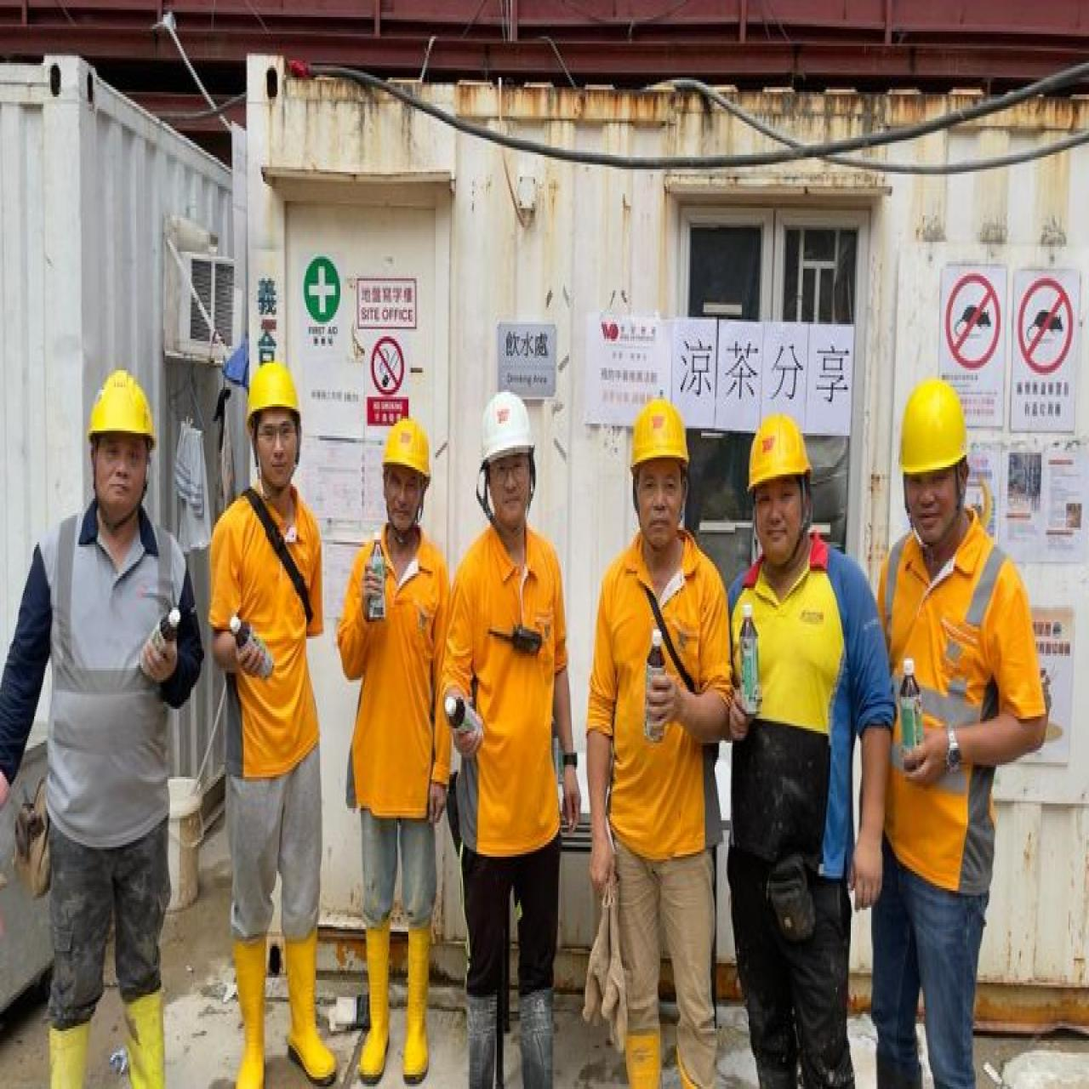NO_Safety_Vest: (878, 529, 1045, 925), (21, 508, 197, 862), (727, 547, 877, 889), (589, 529, 723, 861), (446, 525, 572, 873), (211, 492, 322, 775), (342, 531, 447, 823)
Person: (0, 349, 208, 1089), (872, 373, 1051, 1080), (724, 413, 894, 1087), (584, 391, 733, 1076), (438, 378, 583, 1072), (207, 358, 336, 1081), (341, 412, 455, 1082)
